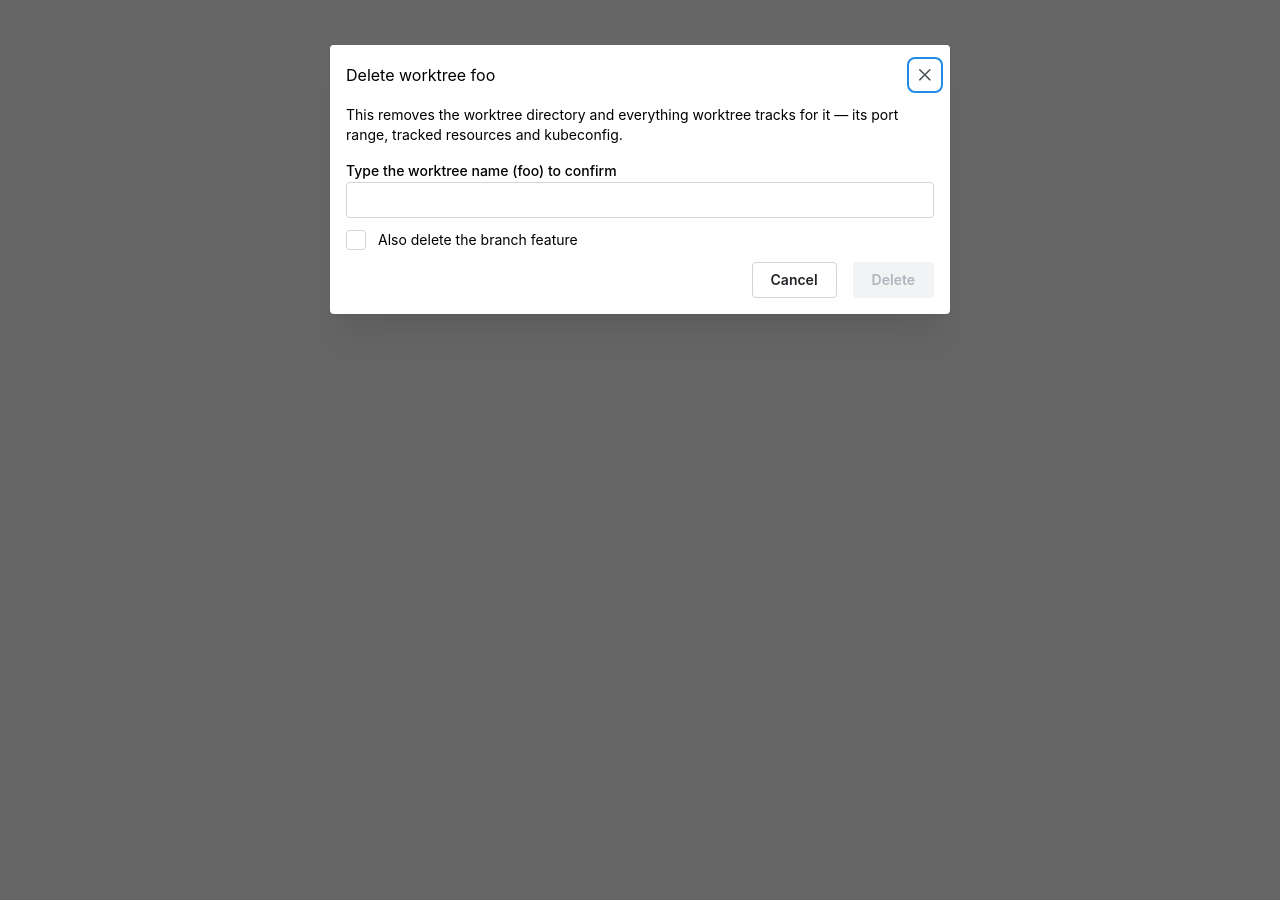
DeleteWorktreeModal › shows a request error in the alert
In the field labelled "Type the worktree name (foo) to confirm": (640, 200) left=346, top=182, right=934, bottom=218, type "foo"
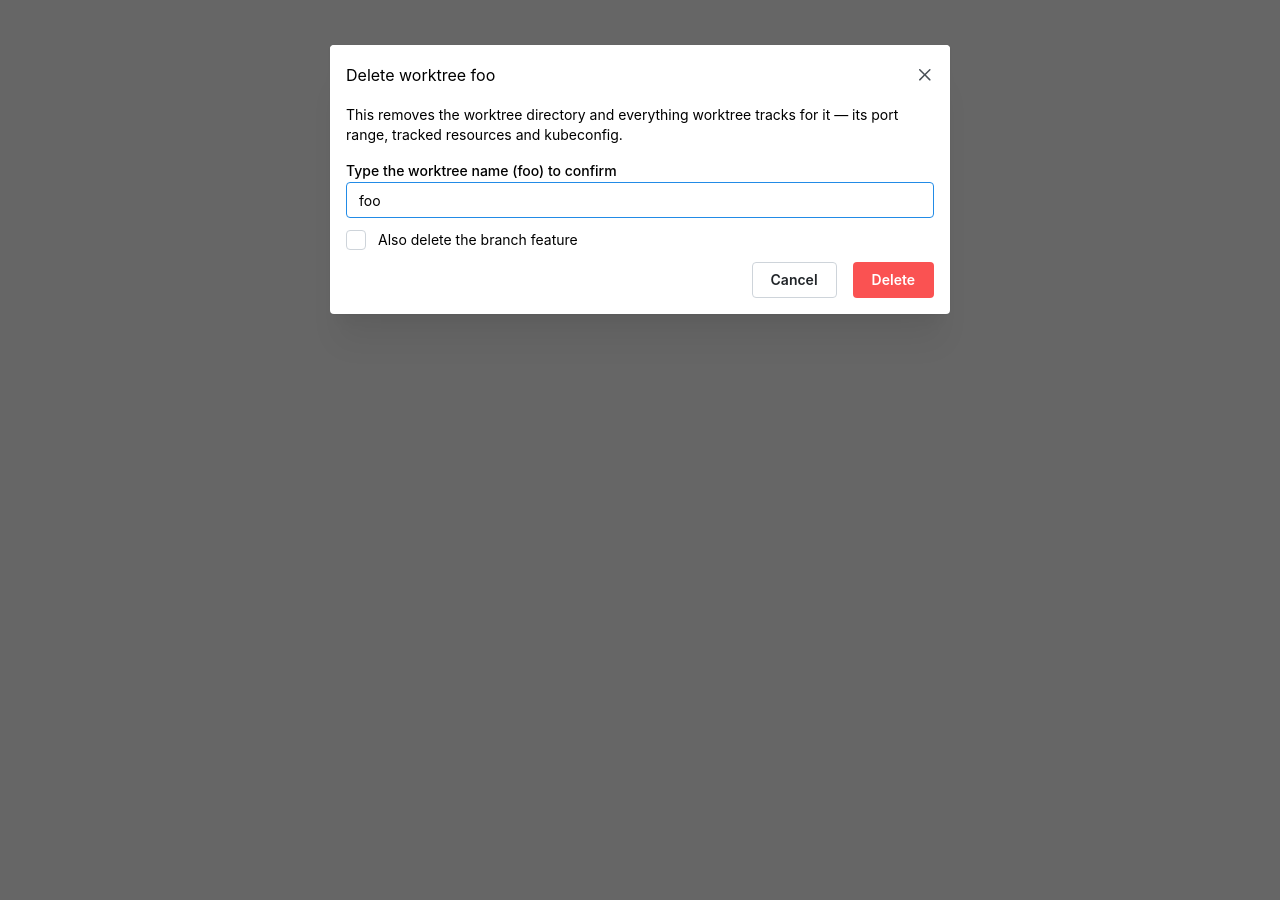
Click the button "Delete": (893, 280) left=853, top=262, right=934, bottom=298
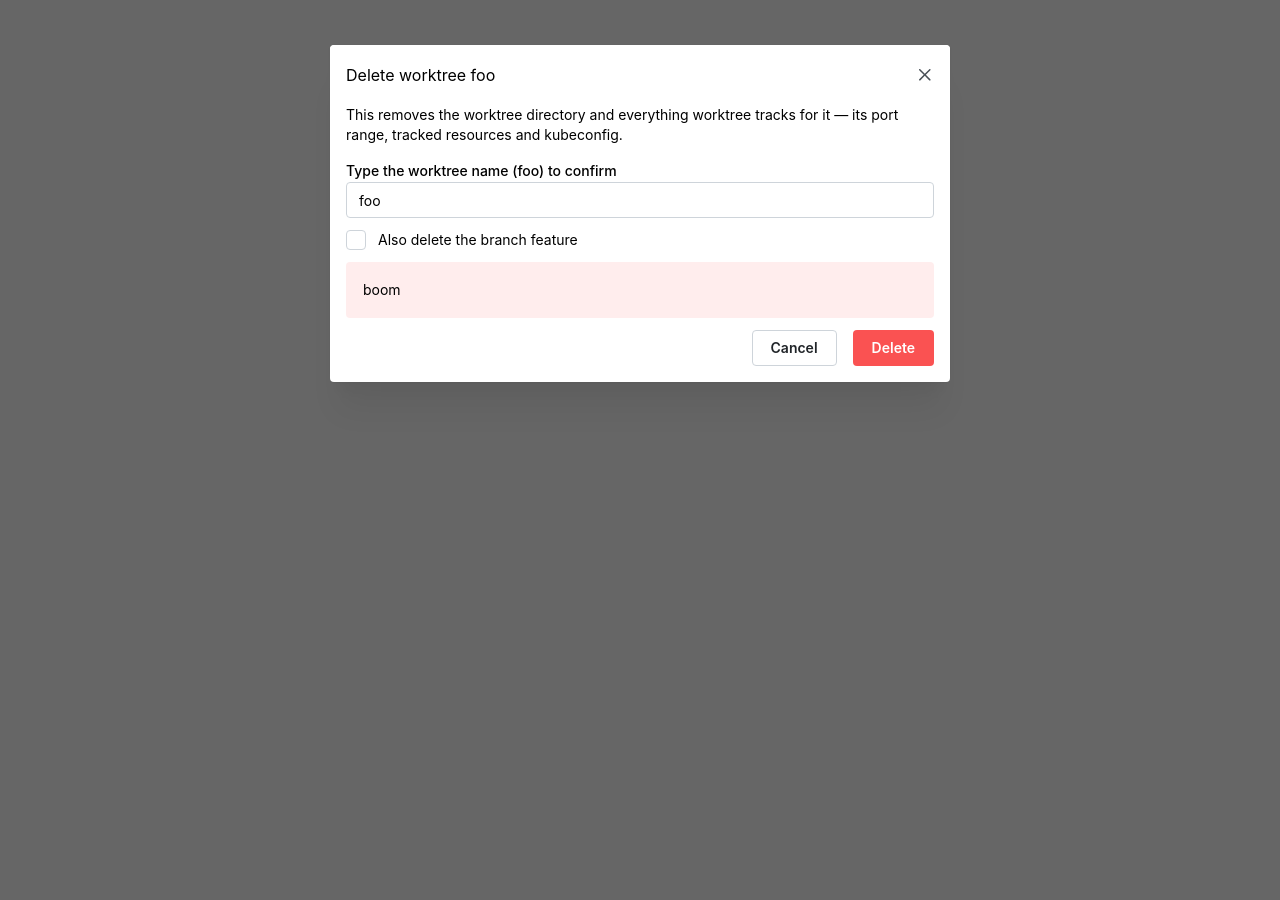
Expected: the text "boom" is shown, left=363, top=281, right=401, bottom=298
